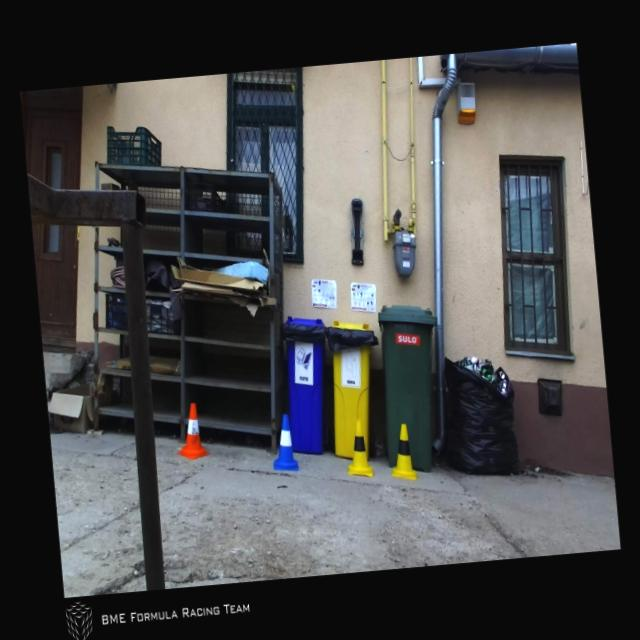blue_cone: (269, 412, 298, 472)
orange_cone: (172, 402, 210, 458)
yellow_cone: (344, 418, 374, 478), (387, 423, 417, 481)
